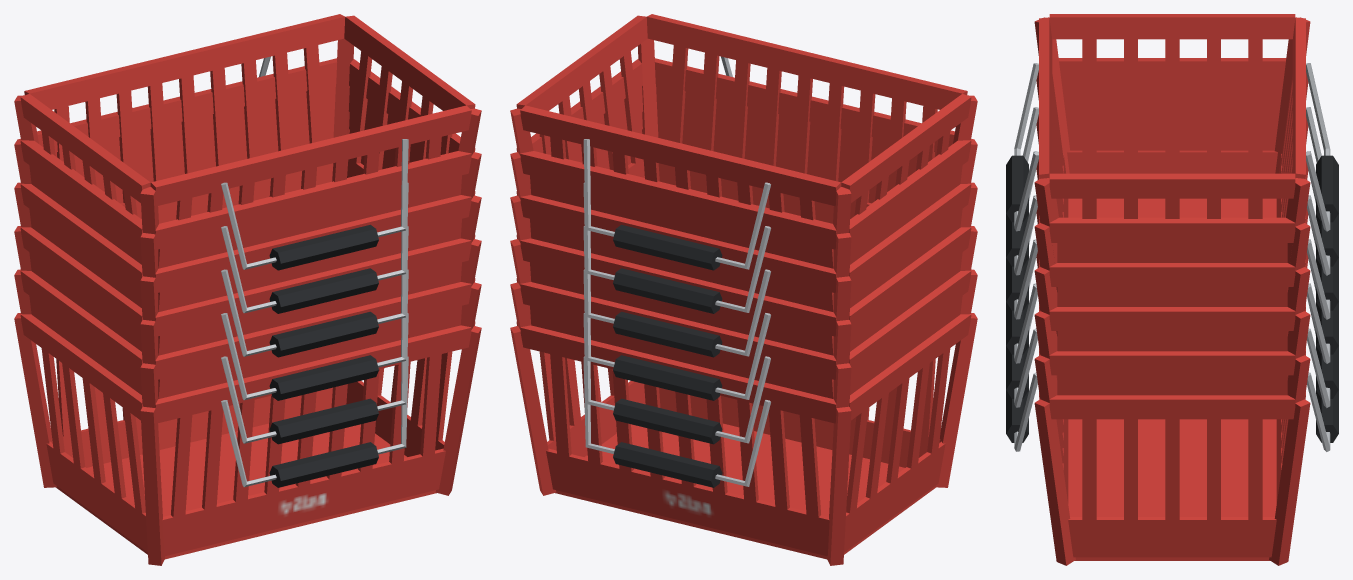
File: SC_Fix_Basket_Stack.gltf
The picture shows the model from 3 angles, left to right: view 1: azimuth 30°, elevation 25°; view 2: azimuth 150°, elevation 25°; view 3: azimuth 270°, elevation 25°; orthographic projection.
Visible parts, largest first — view 1: SC_Fix_Basket_Stack; view 2: SC_Fix_Basket_Stack; view 3: SC_Fix_Basket_Stack.
Part boxes in pixels (x1,y1,x2,y2): SC_Fix_Basket_Stack: (14, 14, 481, 565); SC_Fix_Basket_Stack: (510, 14, 977, 565); SC_Fix_Basket_Stack: (1006, 14, 1338, 565).
Bounding box in the file's own units: 0.4518 × 0.493 × 0.376.
2 materials, 2 textured.
